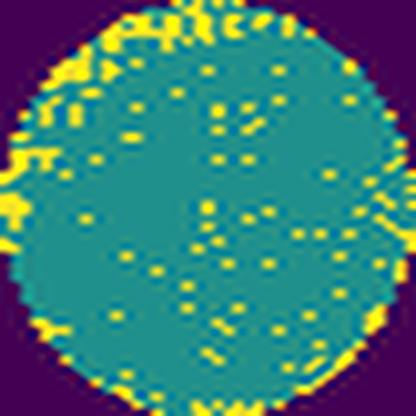Edge-Loc: (98, 0, 214, 59), (0, 145, 59, 238), (34, 43, 90, 98)
